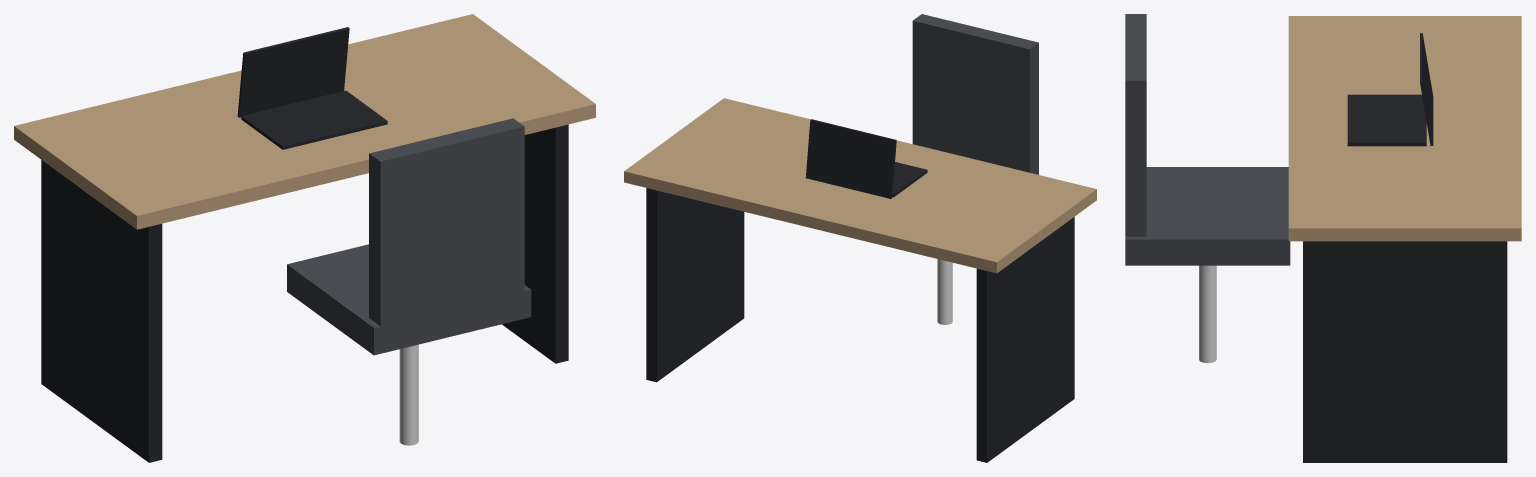
Rendered from archviz_desk_office_chair.glb.
3 renders of one model, left to right at view 1: azimuth 30°, elevation 25°; view 2: azimuth 150°, elevation 25°; view 3: azimuth 270°, elevation 25°, orthographic. The views are drawn at different scales.
Size of the model in its own units: 1.4 by 0.98 by 1.1.
